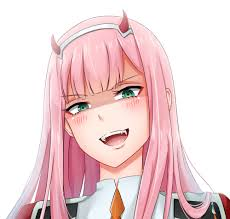zeroTwo: (43, 9, 186, 170)
